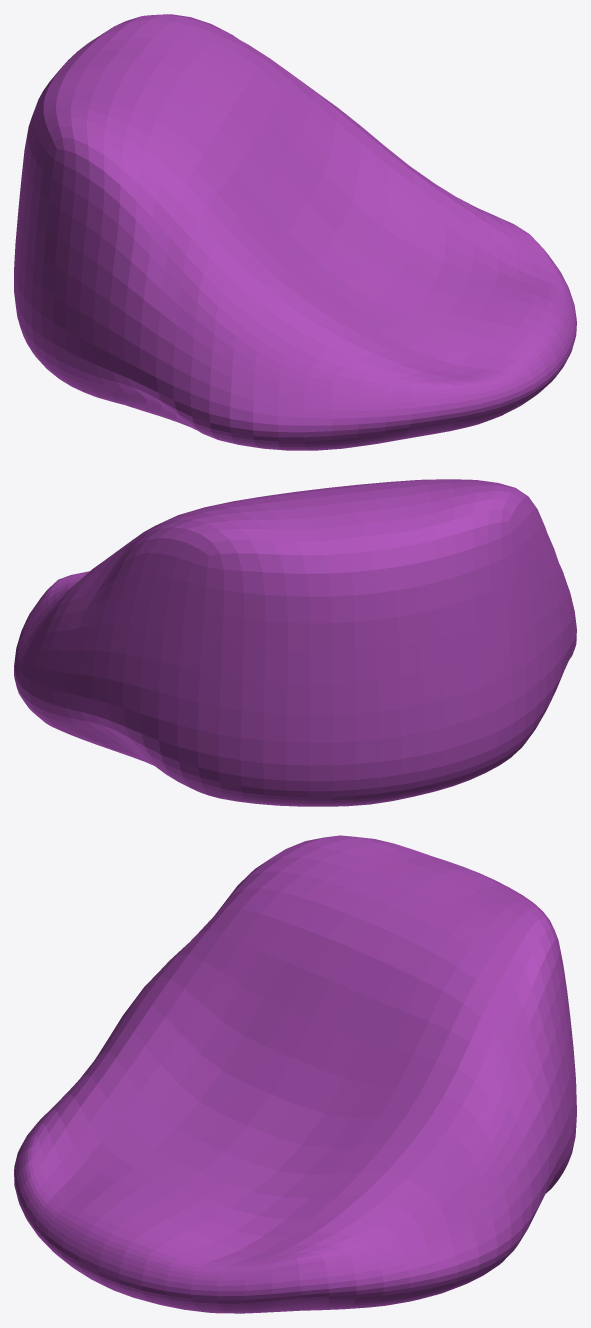
The model's file is armut_2.fbx.
The picture shows the model from 3 angles, top to bottom: view 1: azimuth 30°, elevation 25°; view 2: azimuth 150°, elevation 25°; view 3: azimuth 270°, elevation 25°; orthographic projection. The views are drawn at different scales.
Visible parts, largest first — view 1: Armut_2; view 2: Armut_2; view 3: Armut_2.
Boxes of the visible parts, x1=… form: Armut_2: x1=14, y1=14, x2=576, y2=450; Armut_2: x1=14, y1=479, x2=576, y2=806; Armut_2: x1=14, y1=835, x2=576, y2=1313.
Bounding box in the file's own units: 174 × 105 × 172.
